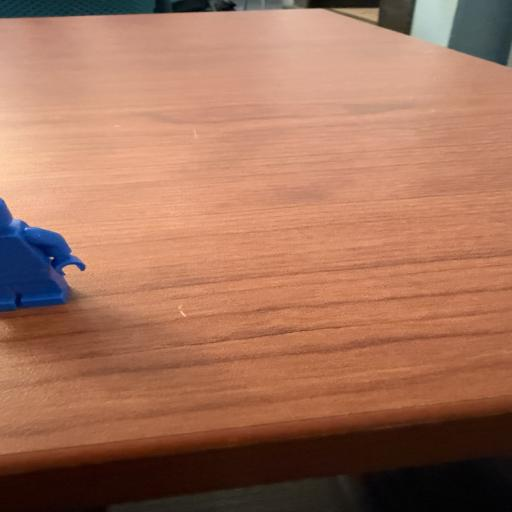Minifig: (0, 196, 88, 312)
